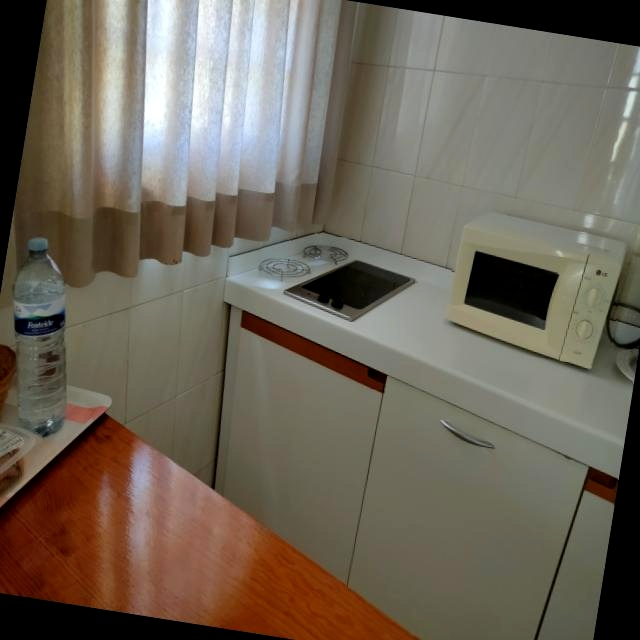cabinet: (215, 311, 619, 640)
countertop: (223, 236, 634, 481), (0, 414, 420, 640)
microwave: (444, 212, 628, 371)
sofa: (259, 246, 416, 322)
